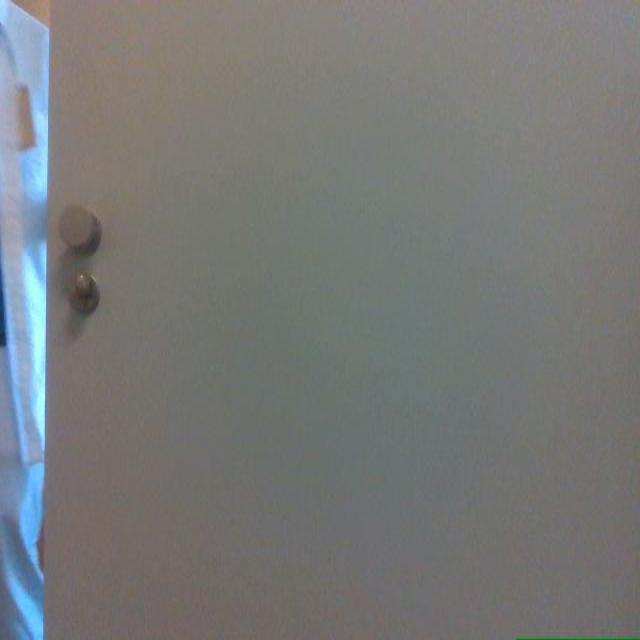humans: (0, 0, 48, 639)
objects: (48, 0, 639, 639)
